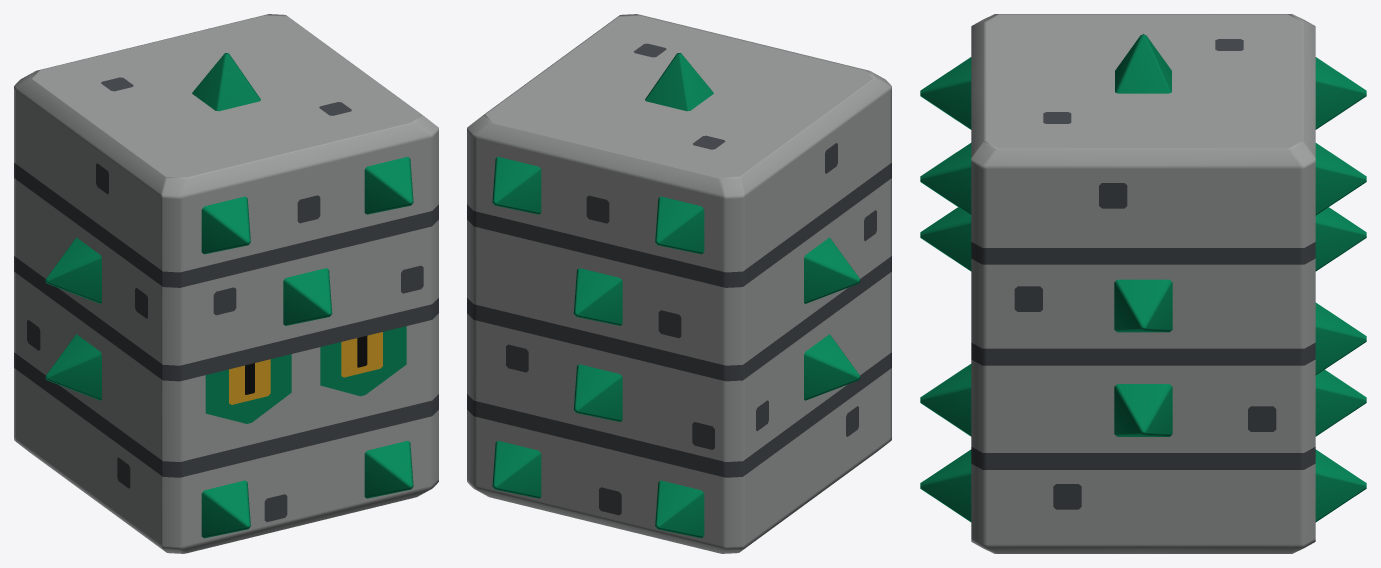
The picture shows the model from 3 angles, left to right: view 1: azimuth 30°, elevation 25°; view 2: azimuth 150°, elevation 25°; view 3: azimuth 270°, elevation 25°; orthographic projection. The views are drawn at different scales.
Visible parts, largest first — view 1: model; view 2: model; view 3: model.
Boxes of the visible parts, x1,y1,x2,y2 form: model: (14, 14, 438, 553); model: (467, 14, 891, 553); model: (920, 14, 1366, 553).
Size of the model in its own units: 1.43 by 1.74 by 1.42.
